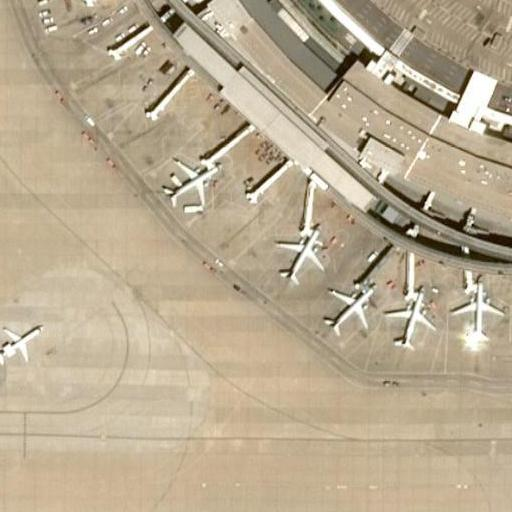Aircraft: (383, 285, 440, 360), (270, 218, 328, 290), (157, 151, 222, 213), (449, 276, 504, 344), (323, 274, 382, 336), (0, 314, 50, 371)
